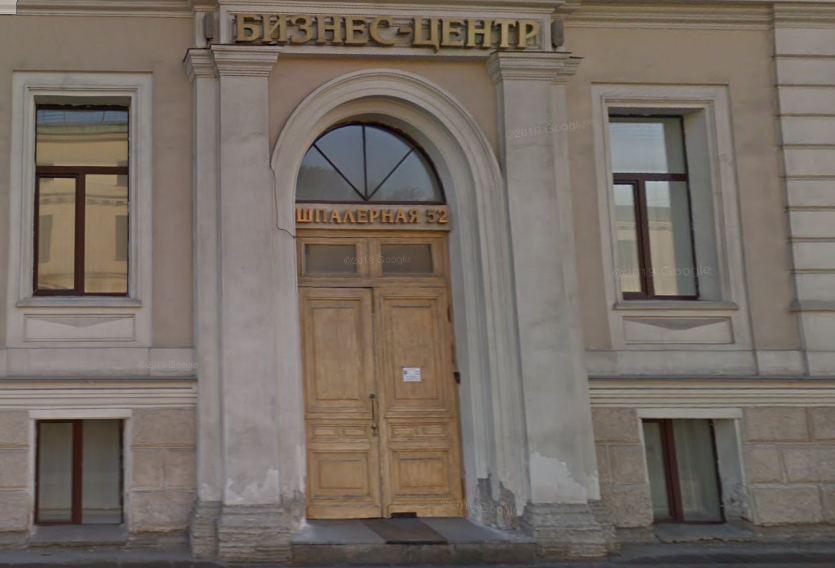door: (300, 283, 465, 520)
signboard: (238, 19, 538, 45), (293, 207, 452, 226)
window: (34, 107, 133, 300), (605, 107, 703, 300), (293, 119, 449, 200), (38, 424, 125, 522), (648, 418, 715, 528), (299, 232, 444, 279)
